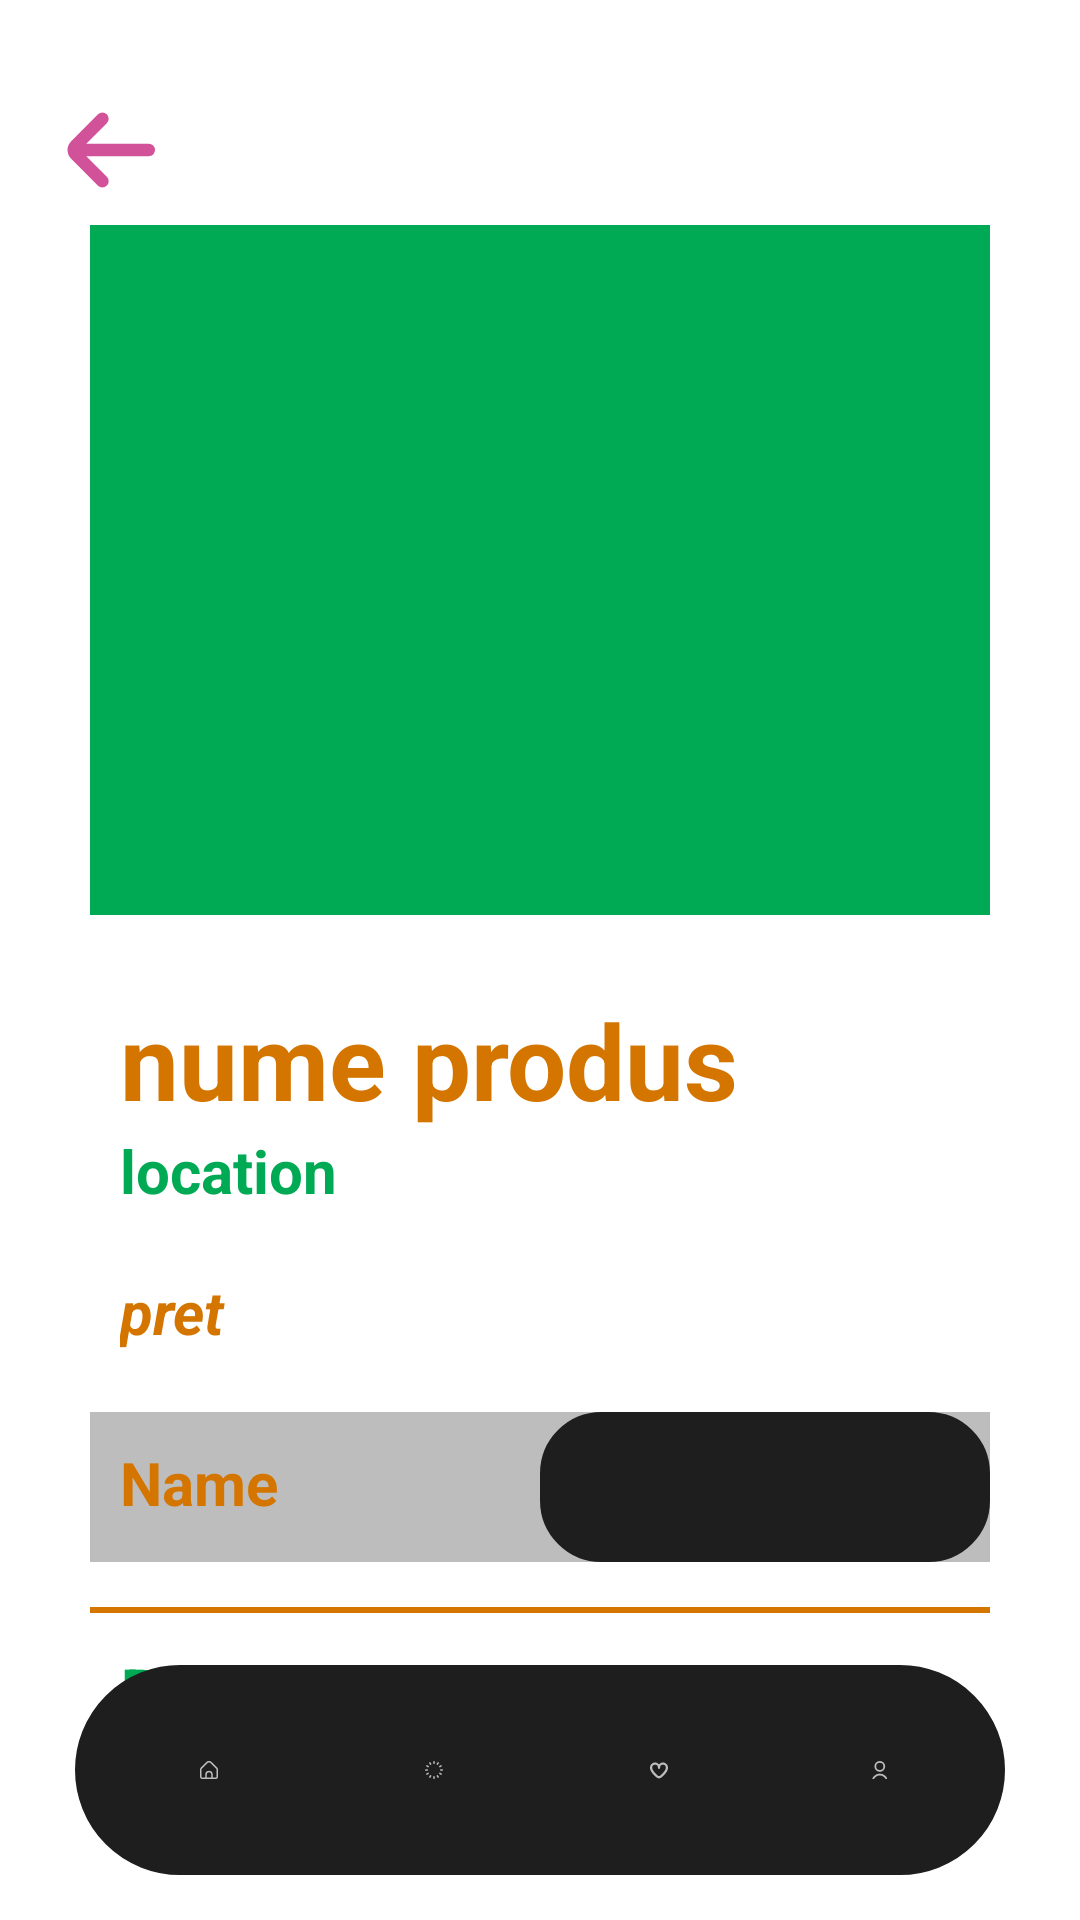

Where to tap for icons on this 1080 × 1920 app screen, as (x=x, y=y):
Back: (x=111, y=150)
